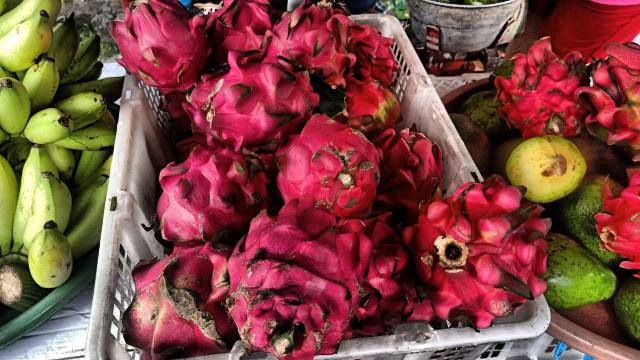buah-naga-belum-matang: (590, 47, 640, 141)
buah-naga-matang: (400, 164, 548, 322), (227, 198, 361, 354), (114, 238, 232, 352), (276, 110, 379, 222), (146, 142, 268, 232), (186, 59, 318, 137), (488, 38, 580, 136), (110, 0, 208, 84), (264, 0, 352, 84), (376, 121, 444, 211), (202, 1, 270, 57)
